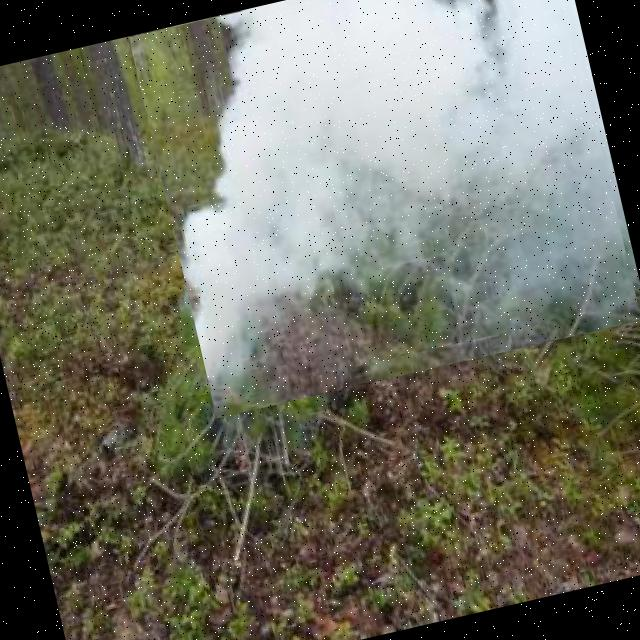fire: (128, 0, 640, 418)
